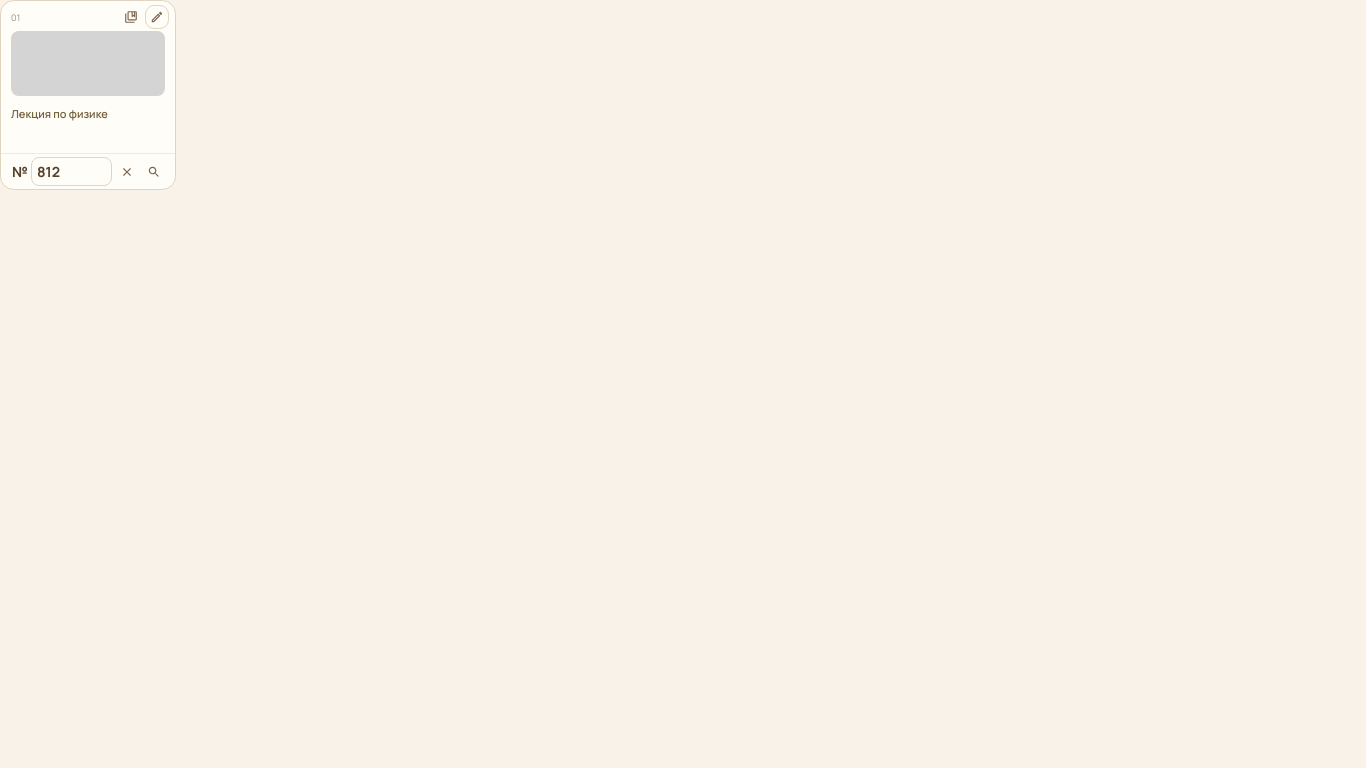
it: cancelling a pasted list restores the inline ID and never changes the course
Replace the text in the field labelled "№" with "812,813": (72, 172) [31,157,112,186]
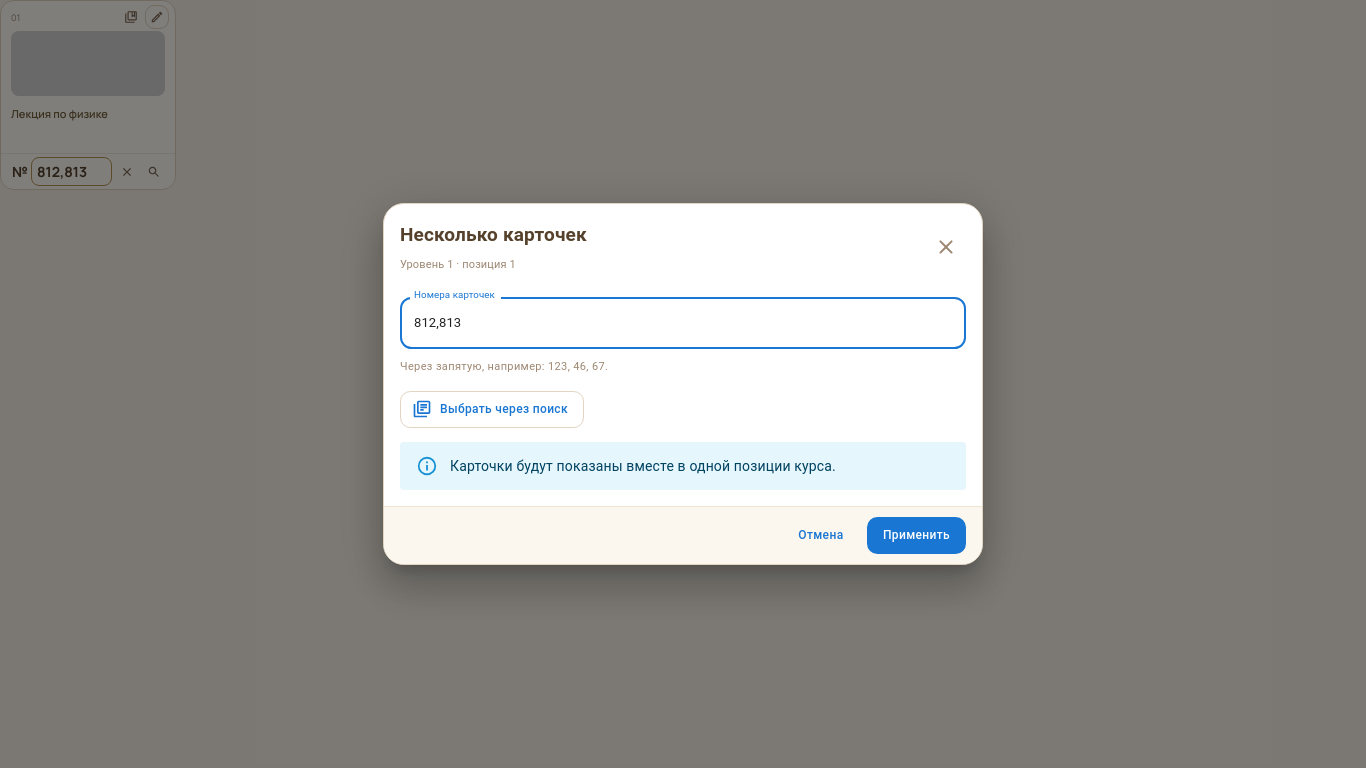
expect the button "Отмена" is shown: met
Click the button "Отмена": (821, 535) [789,517,853,554]
Wait 300 ms
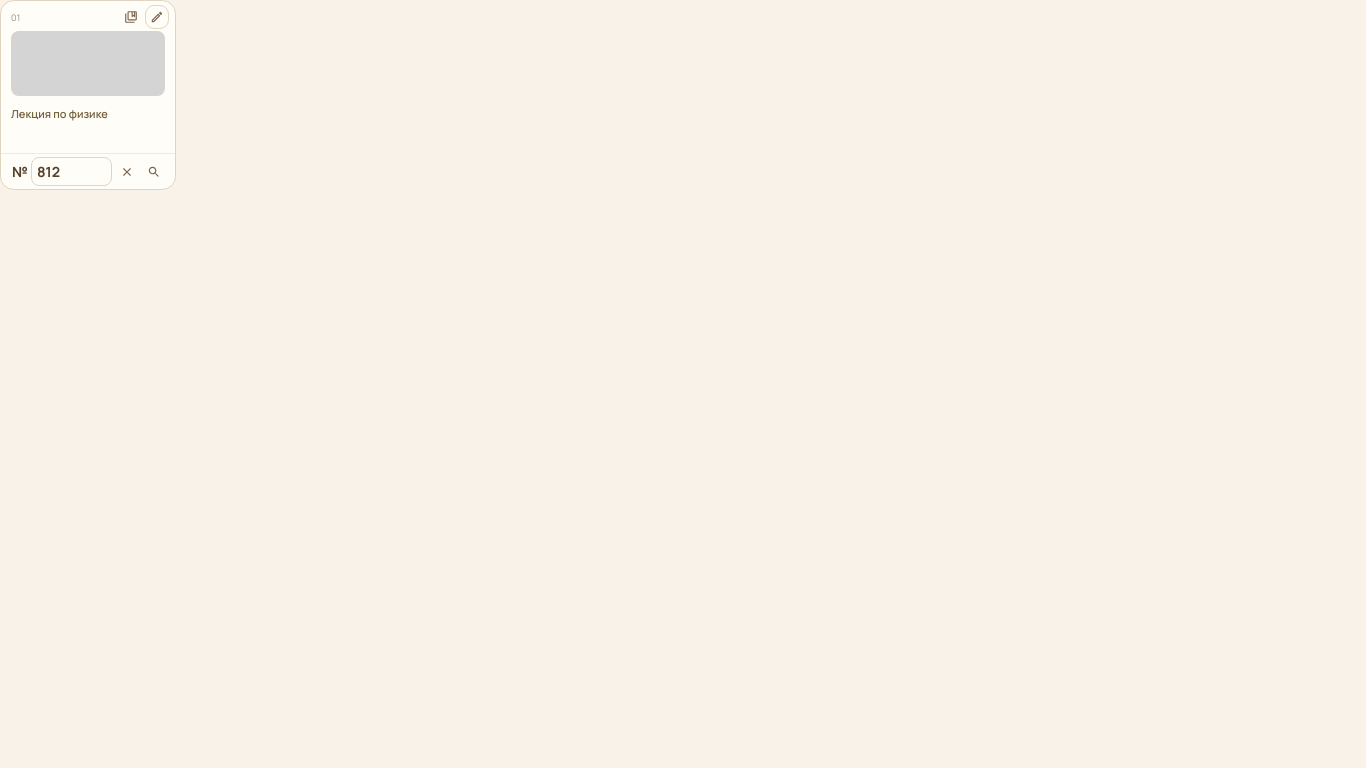
expect the dialog is gone: met
expect the field labelled "№" holds "812": met, box [31,157,112,186]
